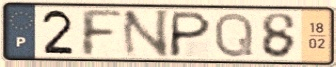2: (40, 9, 76, 57)
8: (258, 11, 298, 60)
F: (78, 7, 126, 58)
N: (120, 7, 173, 60)
P: (166, 9, 214, 59)
Q: (212, 10, 256, 60)
